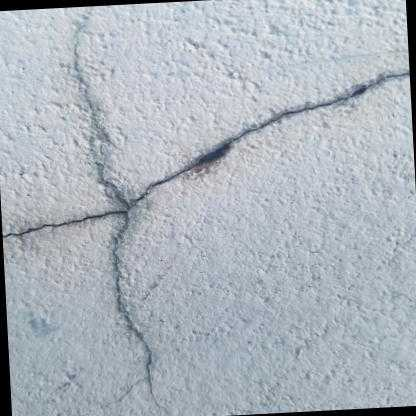crack: (1, 71, 409, 313)
